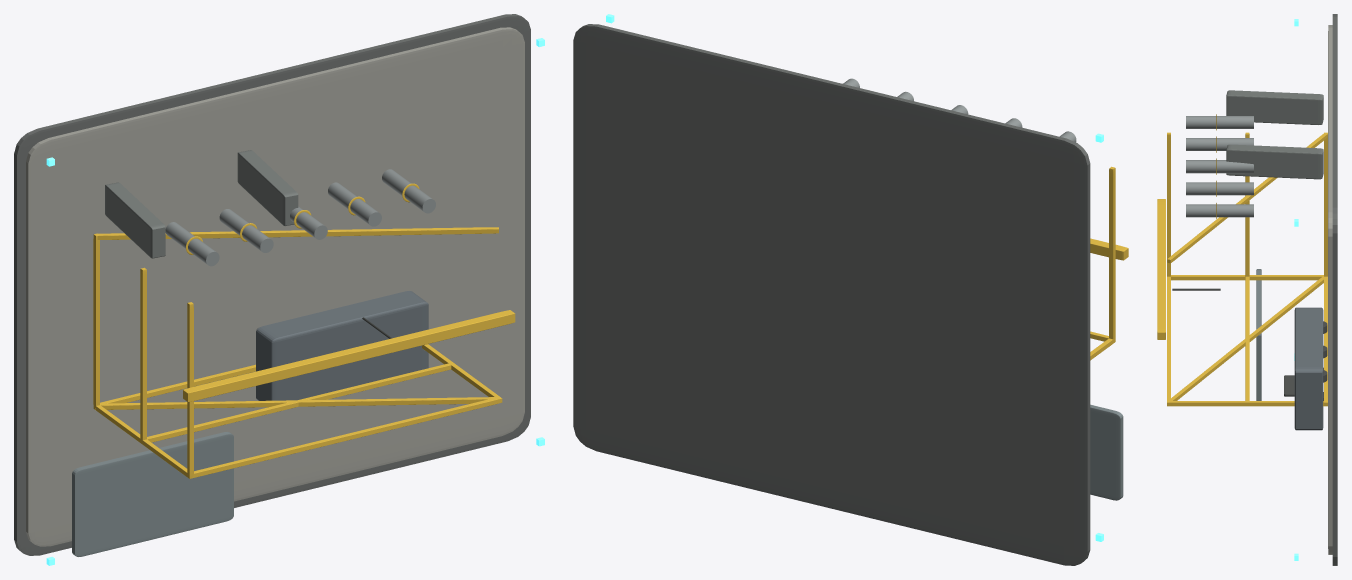
Rendered from b-15-vehicle-factory-lod2.glb.
The picture shows the model from 3 angles, left to right: view 1: azimuth 30°, elevation 25°; view 2: azimuth 150°, elevation 25°; view 3: azimuth 270°, elevation 25°; orthographic projection. The views are drawn at different scales.
Parts seen in each view (by area): view 1: foundation_inner_pad, foundation, parts_store_roof, visible_vehicle_chassis, bridge_crane_bridge, factory_buttress_0, bridge_crane_brace_a_-3, factory_buttress_2, bridge_crane_beam_x_2_s, bridge_crane_beam_x_1_s, bridge_crane_brace_a_3, bridge_crane_beam_y_1_w (+8 smaller); view 2: foundation, parts_store_roof, bridge_crane_beam_y_2_w; view 3: visible_vehicle_chassis, foundation, factory_buttress_0, factory_buttress_2, foundation_inner_pad, bridge_crane_bridge, bridge_crane_brace_a_-3, factory_exhaust_3_stack, factory_exhaust_4_stack, factory_exhaust_0_stack, bridge_crane_column_w_s, factory_exhaust_2_stack (+10 smaller).
Part boxes in pixels (left/top/right/bottom): foundation_inner_pad: left=26, top=27, right=524, bottom=546; foundation: left=14, top=14, right=530, bottom=555; parts_store_roof: left=72, top=432, right=233, bottom=556; visible_vehicle_chassis: left=256, top=291, right=428, bottom=400; bridge_crane_bridge: left=183, top=310, right=515, bottom=401; factory_buttress_0: left=105, top=182, right=165, bottom=258; bridge_crane_brace_a_-3: left=100, top=397, right=495, bottom=409; factory_buttress_2: left=237, top=150, right=298, bottom=225; bridge_crane_beam_x_2_s: left=187, top=397, right=502, bottom=478; bridge_crane_beam_x_1_s: left=140, top=363, right=451, bottom=443; bridge_crane_brace_a_3: left=97, top=227, right=498, bottom=239; bridge_crane_beam_y_1_w: left=140, top=267, right=146, bottom=440; foundation: left=573, top=24, right=1090, bottom=565; parts_store_roof: left=1090, top=404, right=1123, bottom=500; bridge_crane_beam_y_2_w: left=1109, top=166, right=1115, bottom=339; visible_vehicle_chassis: left=1294, top=307, right=1323, bottom=430; foundation: left=1332, top=14, right=1337, bottom=565; factory_buttress_0: left=1226, top=90, right=1323, bottom=124; factory_buttress_2: left=1226, top=144, right=1323, bottom=179; foundation_inner_pad: left=1328, top=25, right=1332, bottom=554; bridge_crane_bridge: left=1157, top=199, right=1165, bottom=339; bridge_crane_brace_a_-3: left=1171, top=276, right=1323, bottom=400; factory_exhaust_3_stack: left=1186, top=182, right=1253, bottom=195; factory_exhaust_4_stack: left=1186, top=204, right=1253, bottom=217; factory_exhaust_0_stack: left=1186, top=116, right=1253, bottom=128; bridge_crane_column_w_s: left=1171, top=275, right=1323, bottom=280; factory_exhaust_2_stack: left=1186, top=160, right=1253, bottom=173.
Size of what is drawn, in the model's own units: 19 by 15 by 6.9.
